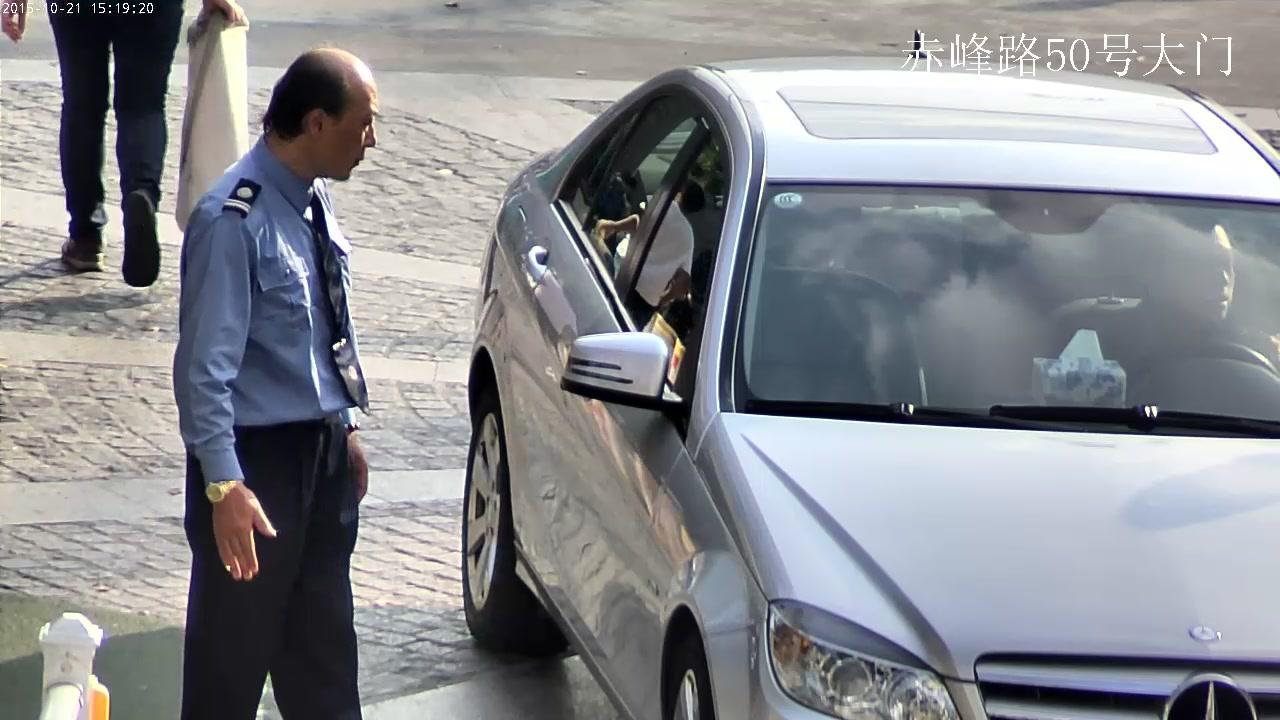face: (1168, 224, 1234, 318), (327, 67, 376, 180)
